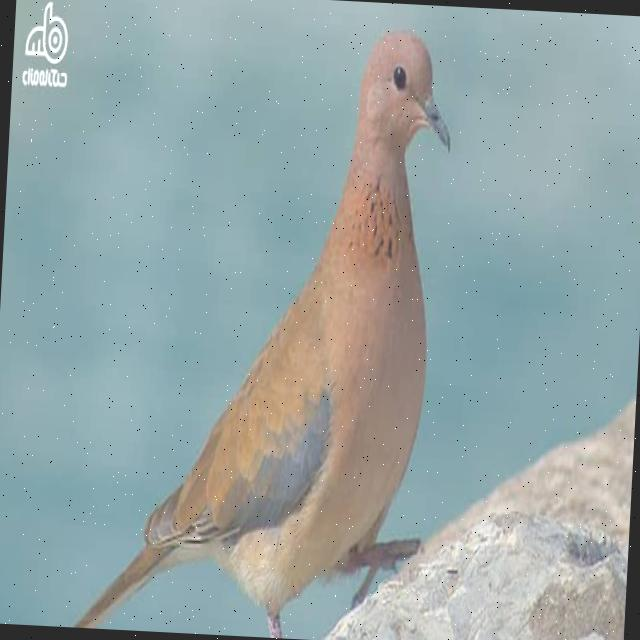dove: (75, 8, 460, 640)
